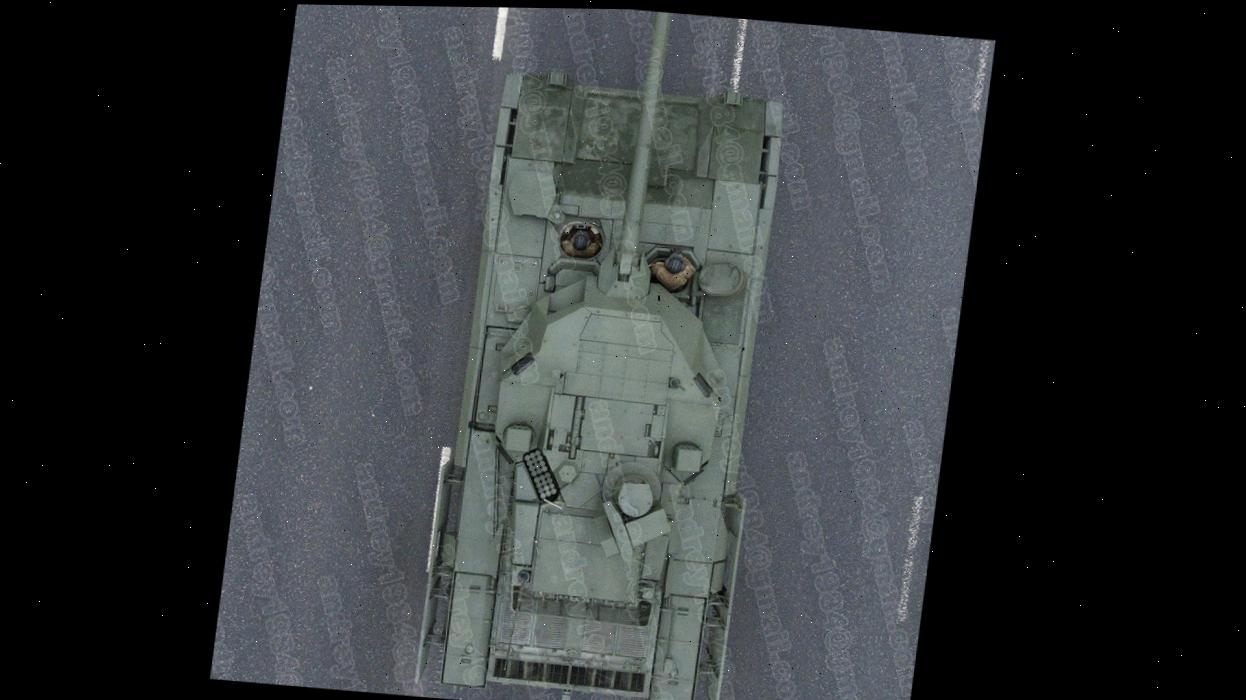tank: (404, 7, 810, 700)
